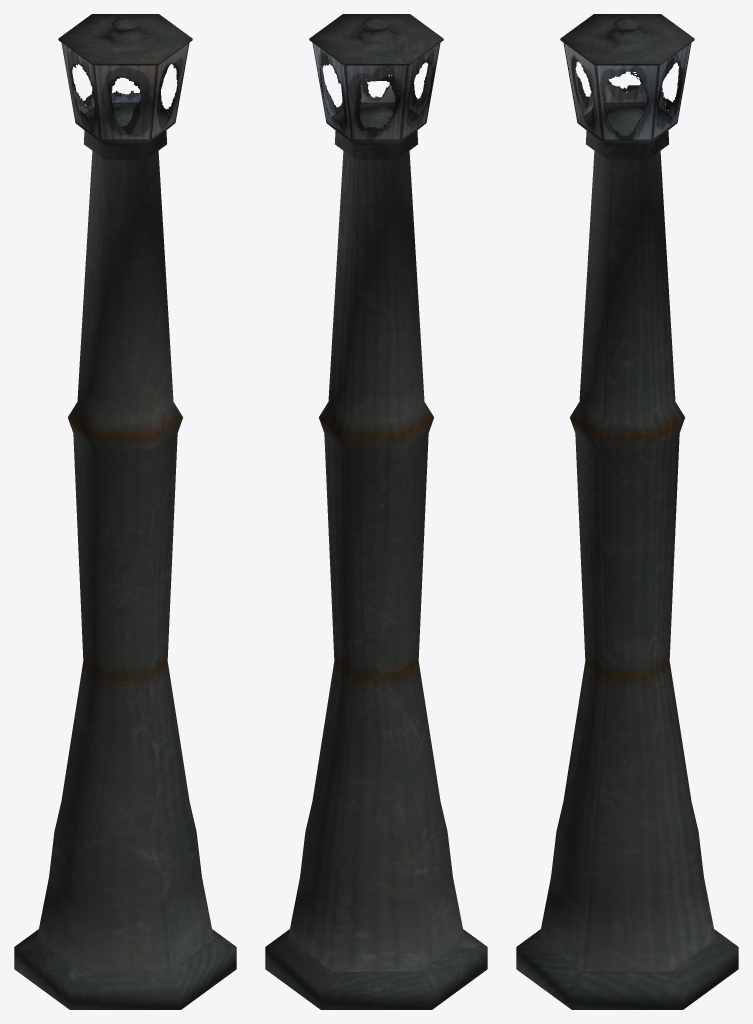
Rendered from Lamp_Metal.fbx.
The picture shows the model from 3 angles, left to right: view 1: azimuth 30°, elevation 25°; view 2: azimuth 150°, elevation 25°; view 3: azimuth 270°, elevation 25°; orthographic projection.
Visible parts, largest first — view 1: Lamppost; view 2: Lamppost; view 3: Lamppost.
Part boxes in pixels (x1,y1,x2,y2): Lamppost: (14, 14, 236, 1009); Lamppost: (265, 14, 487, 1009); Lamppost: (516, 14, 738, 1009).
Size of the model in its own units: 38.44 by 209 by 44.38.
Materials: 1 (1 with a texture image).
